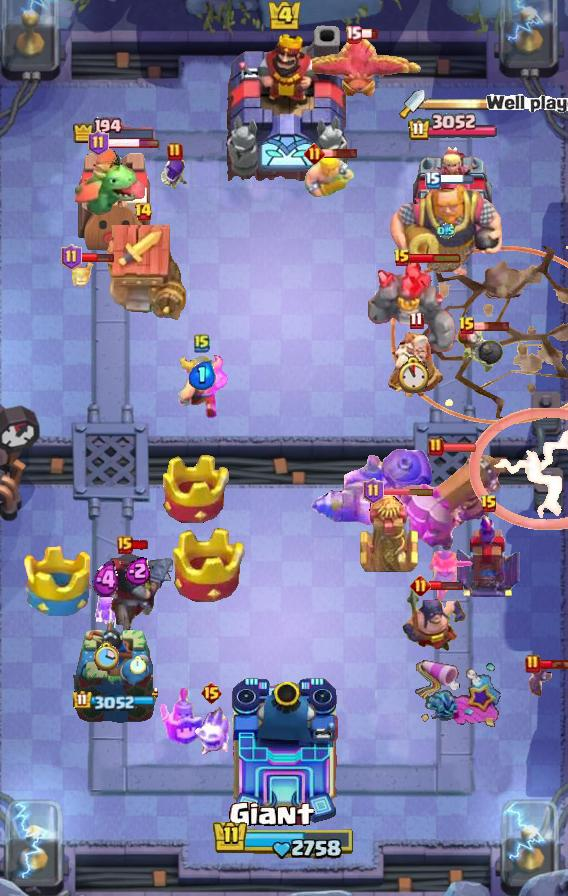archer: (301, 155, 355, 203)
bar: (409, 142, 497, 256)
barbarian-barrel: (529, 663, 561, 697)
barbarian-evolution: (469, 408, 568, 530)
cannoneer-tower: (366, 259, 460, 355)
clock: (212, 819, 356, 861)
electro-spirit: (92, 561, 121, 599), (189, 362, 216, 391), (125, 556, 152, 585), (437, 223, 455, 239)
electro-wizard: (73, 141, 149, 217)
elixir: (395, 356, 431, 394), (93, 641, 119, 672), (130, 656, 146, 674)
elixir-collector: (386, 327, 446, 397)
emote: (410, 252, 463, 264), (106, 138, 160, 149), (381, 487, 435, 497), (439, 174, 477, 187), (322, 147, 359, 159), (473, 320, 510, 332), (441, 442, 477, 454), (79, 252, 115, 263), (428, 581, 463, 592), (538, 658, 568, 670), (359, 28, 379, 40), (130, 539, 150, 551)
furnace: (395, 451, 503, 551)
giant-skeleton: (388, 178, 504, 278)
goblin: (159, 156, 191, 194), (94, 588, 118, 632)
goblin-brawler: (358, 493, 420, 577)
goblin-giant: (177, 353, 228, 419)
guard: (392, 246, 568, 426)
hog-rider: (427, 549, 475, 603)
ice-golem: (456, 325, 504, 375)
ice-spirit-evolution: (71, 257, 103, 289)
ice-spirit-evolution-symbol: (455, 513, 523, 599)
inferno-dragon: (100, 549, 176, 635)
king-tower: (219, 21, 349, 181), (228, 676, 340, 826)
king-tower-bar: (425, 97, 495, 111)
mirror: (191, 707, 231, 757)
monk: (400, 584, 468, 654)
mother-witch: (312, 35, 424, 103)
princess: (160, 688, 204, 748)
queen-tower: (70, 616, 158, 731), (71, 144, 157, 255)
selected: (407, 113, 499, 142), (71, 116, 156, 143), (72, 689, 155, 711)
sparky: (100, 224, 186, 322)
text: (200, 681, 223, 705), (87, 130, 108, 156), (62, 244, 83, 270), (364, 478, 385, 504), (304, 143, 325, 165), (410, 575, 431, 597), (134, 202, 154, 222), (393, 248, 411, 268), (458, 316, 476, 336), (480, 494, 498, 514), (345, 24, 362, 43), (167, 142, 183, 162), (194, 333, 210, 353), (428, 437, 444, 457), (525, 654, 541, 674), (425, 171, 441, 189), (117, 536, 133, 554), (408, 311, 423, 329)
wizard: (310, 448, 434, 526)
